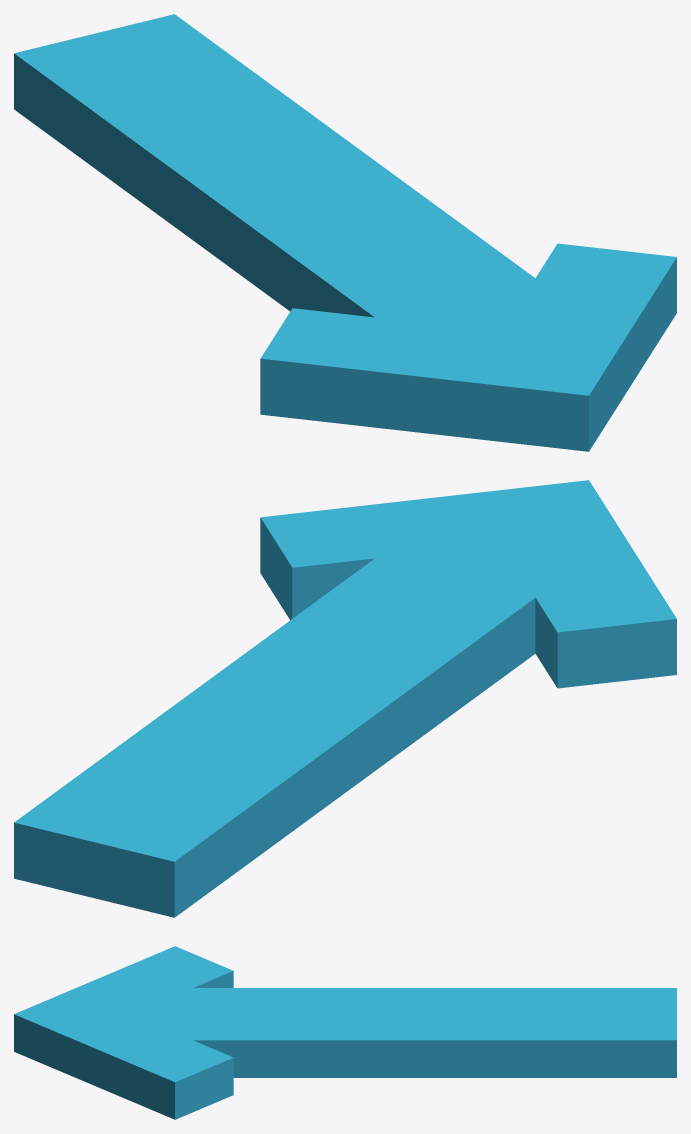
Rendered from Arrow Light Blue.glb.
3 views of the same model, one above another, from view 1: azimuth 30°, elevation 25°; view 2: azimuth 150°, elevation 25°; view 3: azimuth 270°, elevation 25° (orthographic). The views are drawn at different scales.
Parts seen in each view (by area): view 1: cube; view 2: cube; view 3: cube.
Boxes of the visible parts, <box> form: cube: <box>14,14,676,451</box>; cube: <box>14,480,676,917</box>; cube: <box>14,946,676,1119</box>.
Size of the model in its own units: 0.9723 by 0.125 by 2.
1 material, 1 textured.
